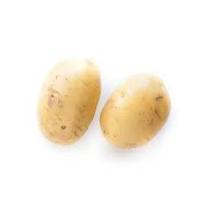biodegradable: (37, 56, 102, 146), (98, 73, 173, 150)
